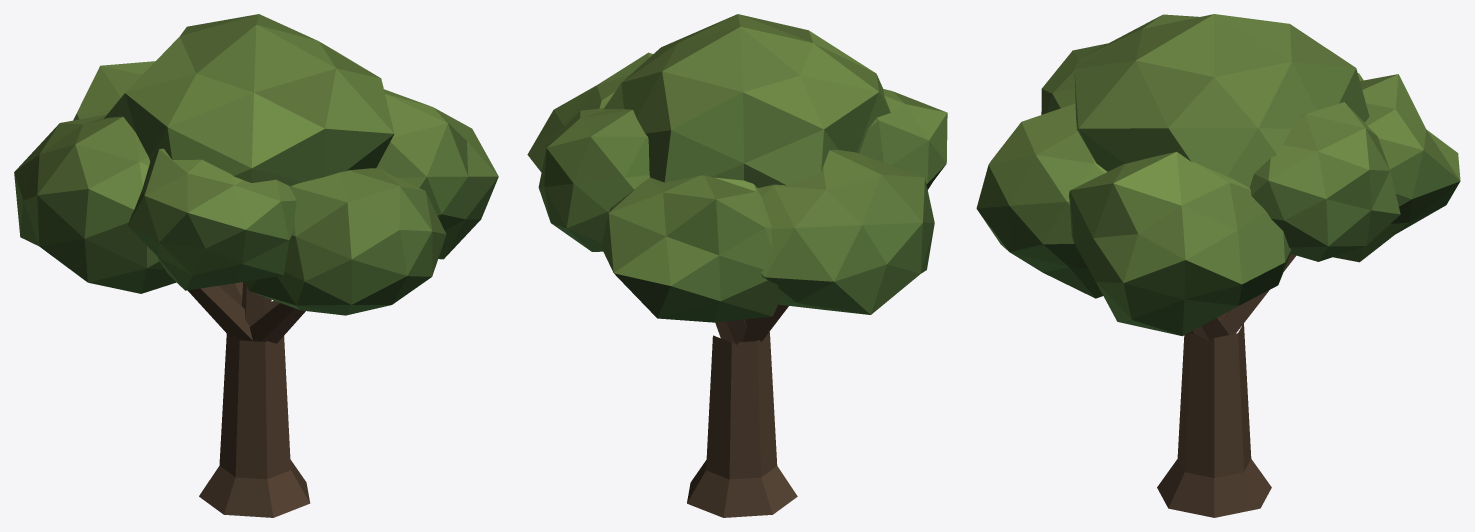
File: oak.glb
The picture shows the model from 3 angles, left to right: view 1: azimuth 30°, elevation 25°; view 2: azimuth 150°, elevation 25°; view 3: azimuth 270°, elevation 25°; orthographic projection. The views are drawn at different scales.
Visible parts, largest first — view 1: oak; view 2: oak; view 3: oak.
Boxes of the visible parts, bbox=[...] form: oak: bbox=[14, 14, 498, 517]; oak: bbox=[527, 14, 947, 517]; oak: bbox=[976, 14, 1460, 517].
Size of the model in its own units: 6.28 by 6.99 by 6.4.
